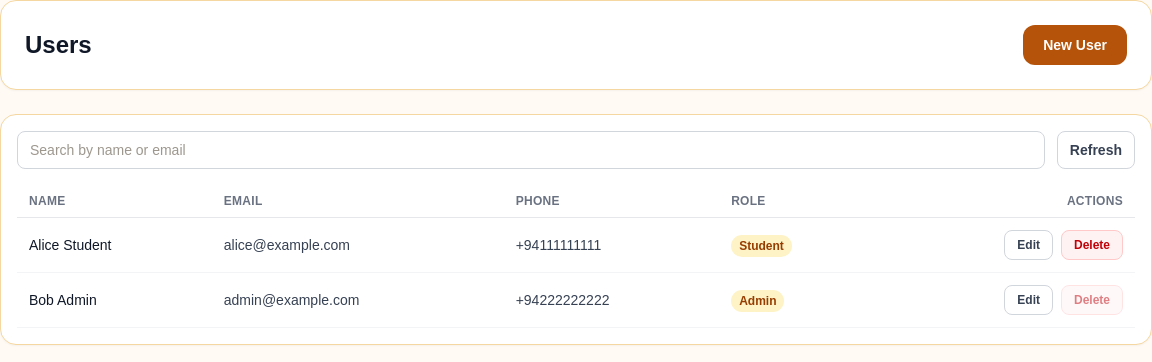
Admin users page › loads and filters users by query
Expected: the text "Alice Student" is shown, x1=17 y1=218 x2=212 y2=272
Expected: the text "Bob Admin" is shown, x1=17 y1=272 x2=212 y2=328
Type "alice" into the field with placeholder "Search by name or email" at (531, 150), box x1=17 y1=131 x2=1045 y2=169
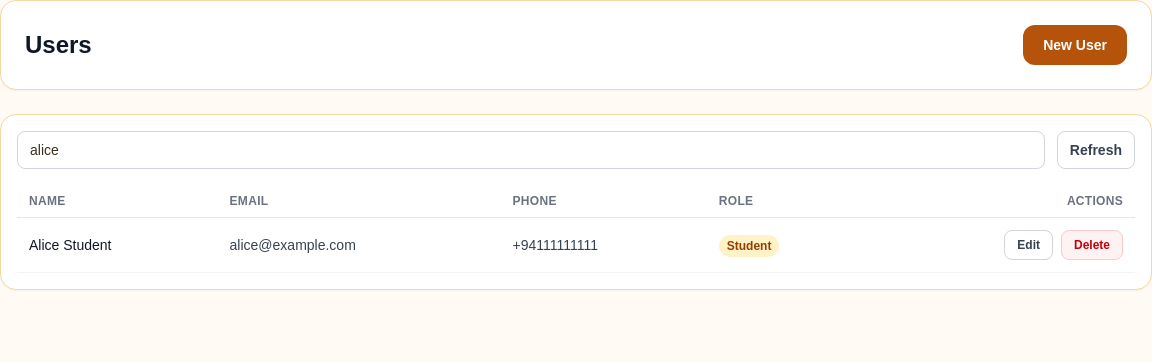
Expected: the text "Alice Student" is shown, x1=17 y1=218 x2=218 y2=272
Result: the text "Bob Admin" is gone
